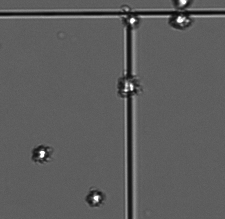Living Cell: (116, 73, 142, 99), (169, 11, 194, 30), (121, 8, 141, 30), (31, 144, 52, 164), (85, 188, 106, 207), (167, 1, 194, 9)
